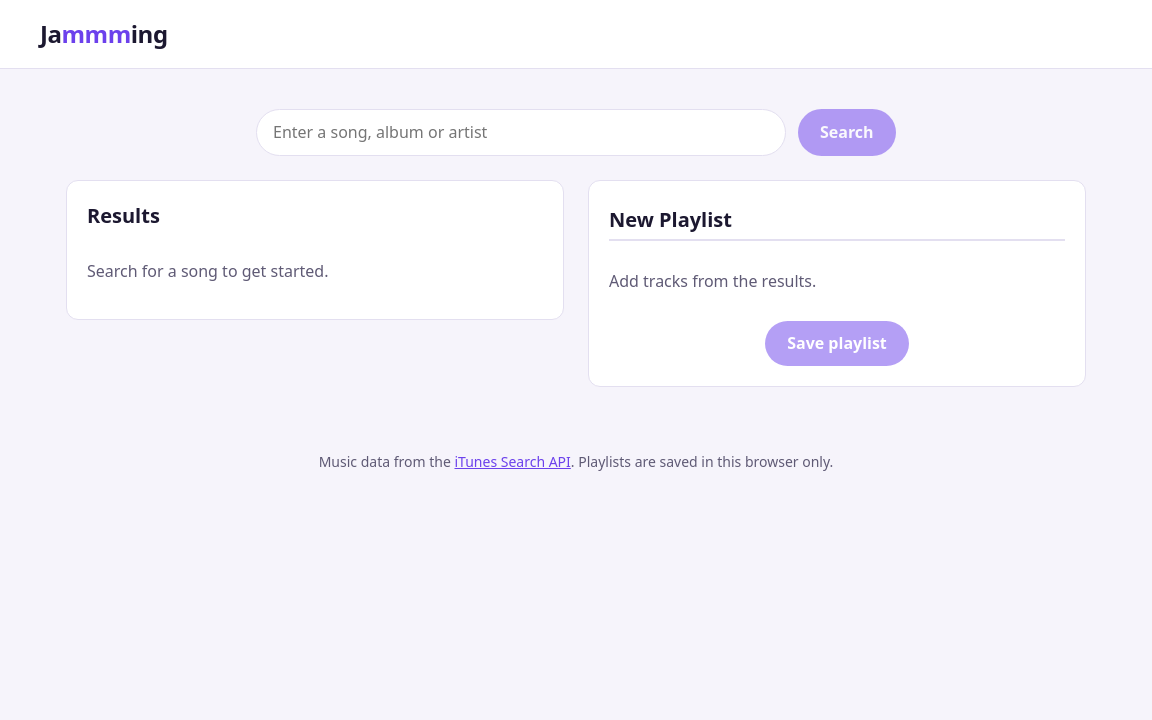
it: App › saves a playlist, lists it, and resets the editor
In the search field: coordinates (521, 132) [256,109,786,156], type "neil"
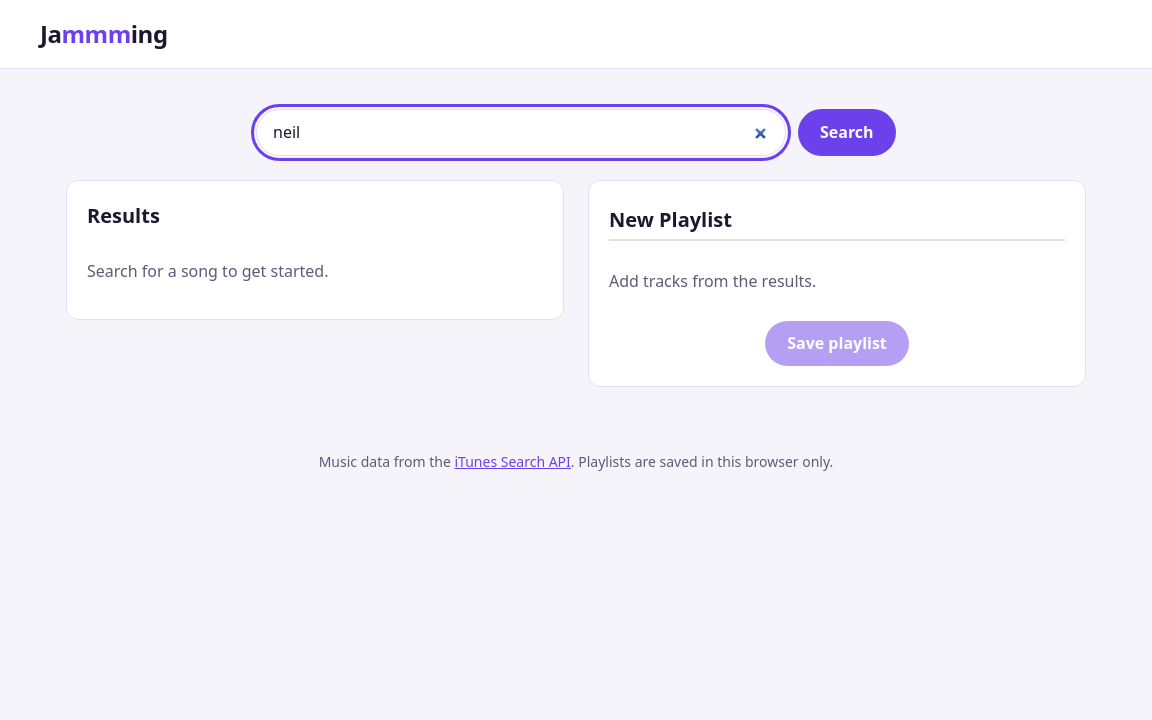
Click the button "Search": coordinates (847, 132) [798,109,896,156]
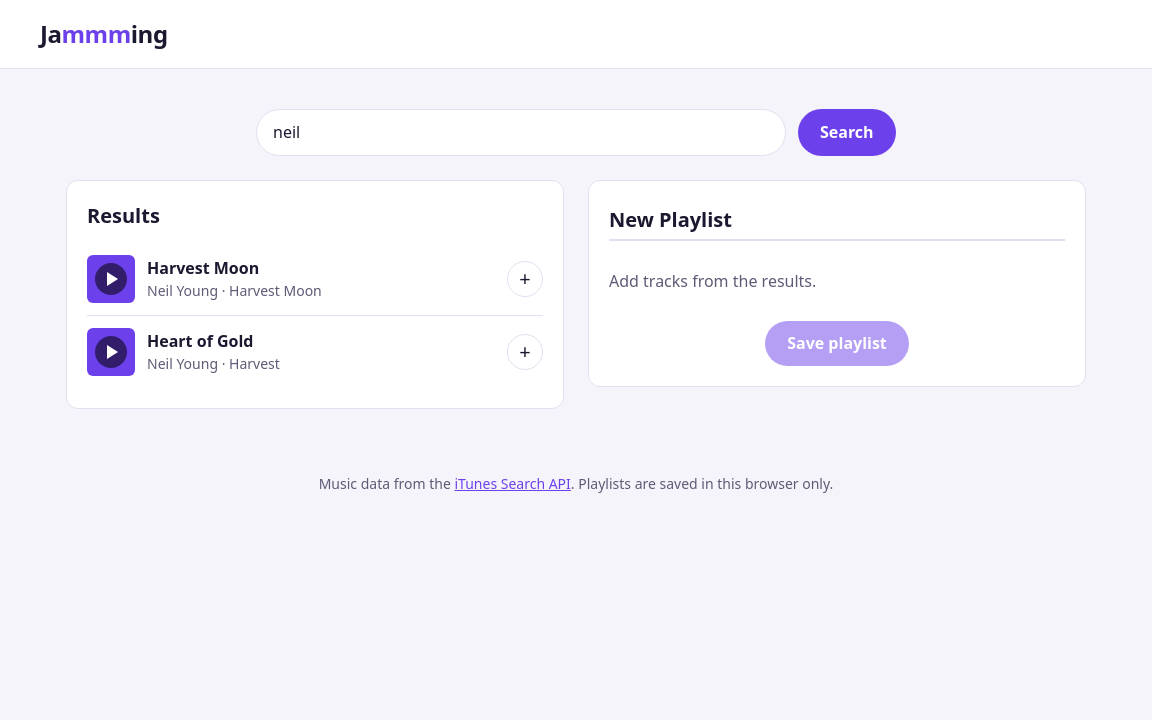
Click the button named "Add Harvest Moon to playlist": coordinates (525, 279) [507,261,543,297]
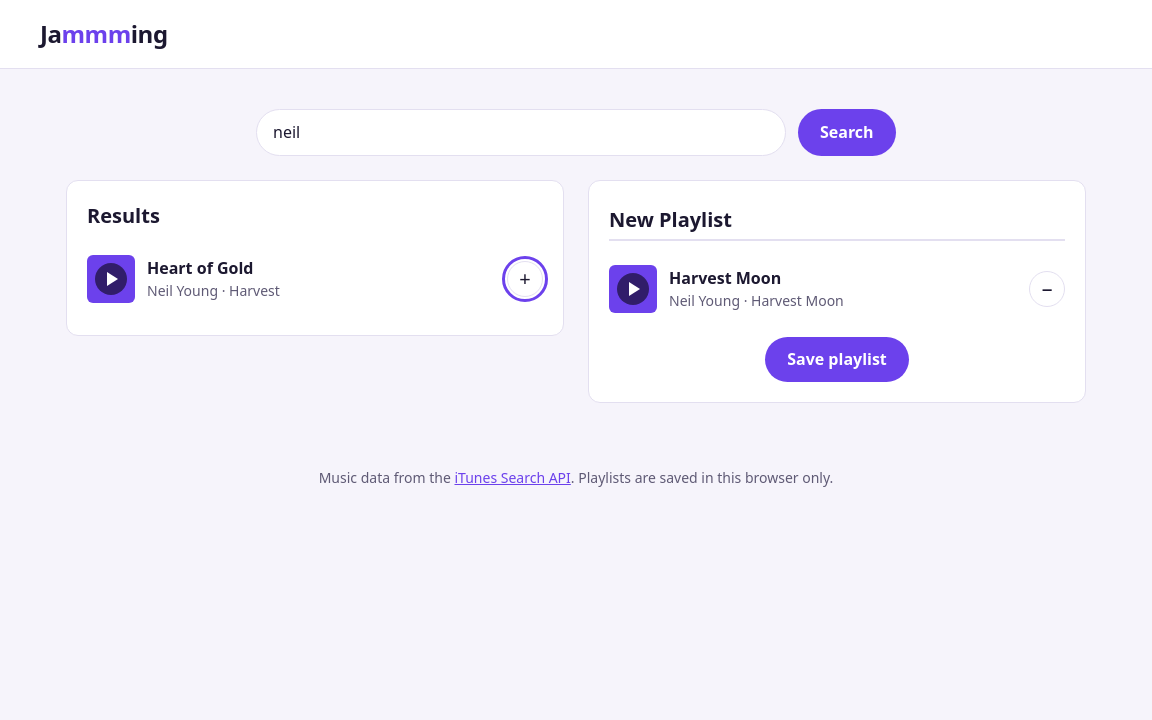
Click the button named "Add Heart of Gold to playlist": coordinates (525, 279) [507,261,543,297]
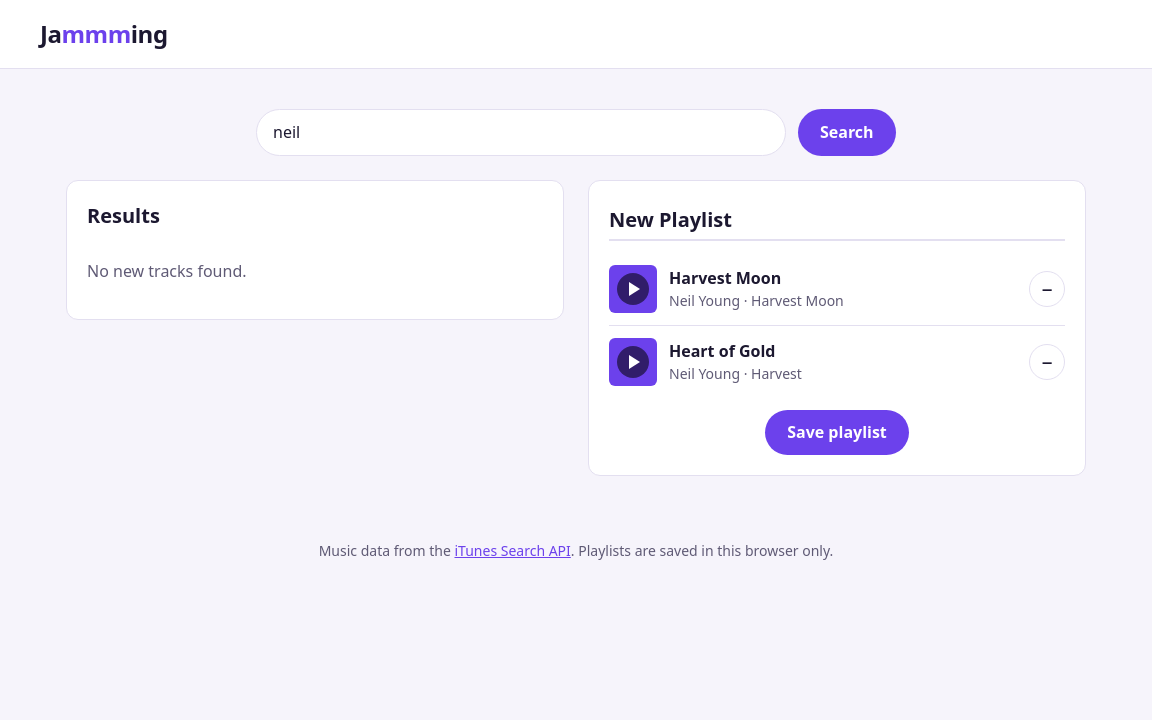
Replace the text in the field named "Playlist name" with "Neil": coordinates (837, 221) [609,201,1065,241]
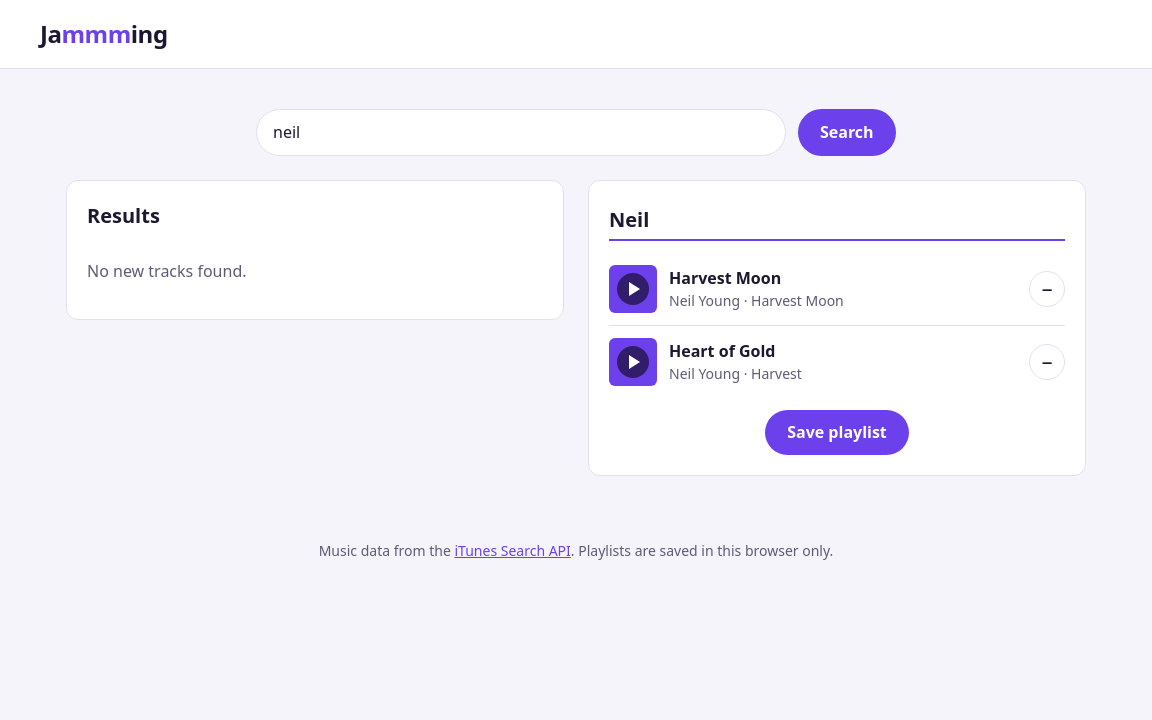
Click the button "Save playlist": coordinates (837, 432) [765,410,909,455]
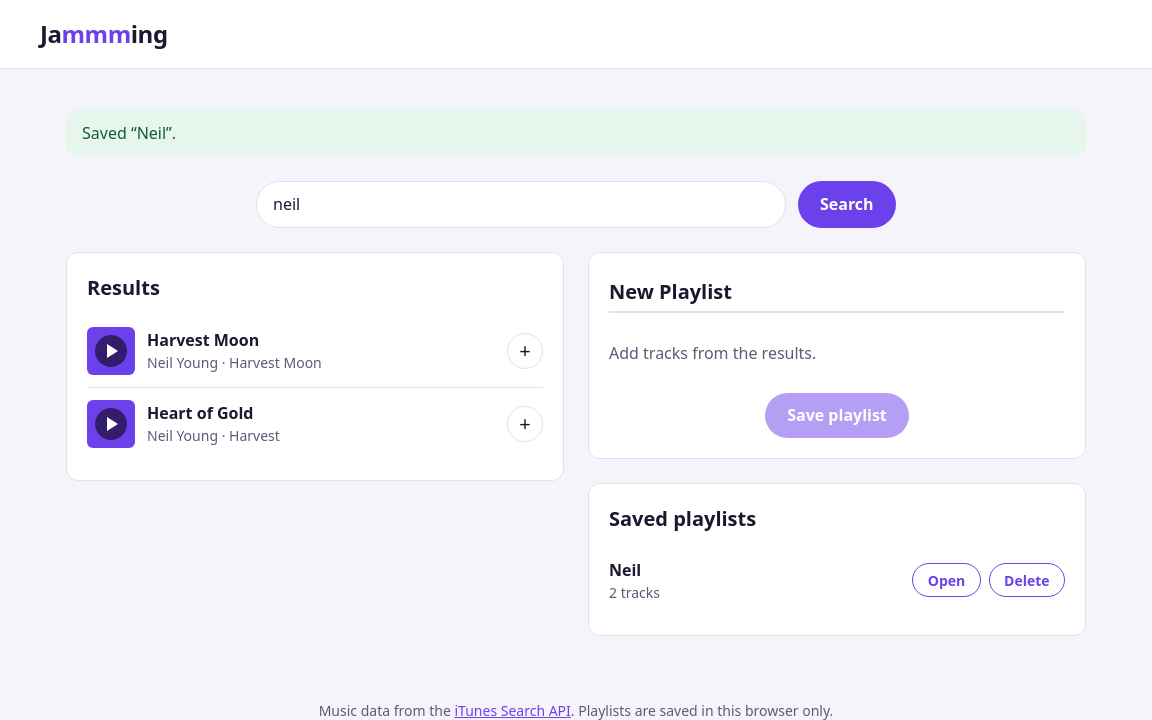
Now the message shows "Saved “Neil”", box [82,122,176,144]
Now the heading "Neil" is shown, box [609,559,641,581]
Now the text "2 tracks" is shown, box [609,583,660,602]
